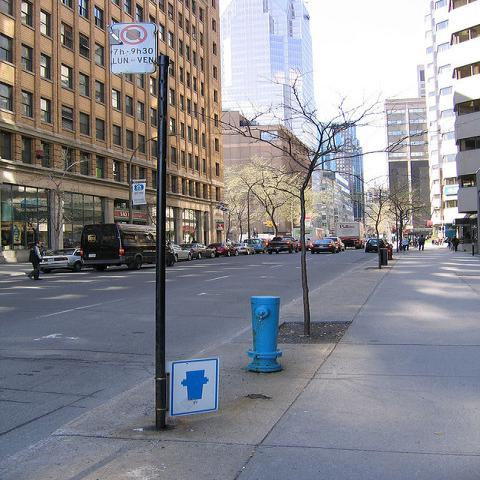bus: (292, 228, 330, 248)
car: (39, 248, 82, 273), (180, 243, 216, 259), (207, 243, 239, 258), (310, 240, 340, 253), (173, 244, 192, 262), (244, 239, 268, 253), (324, 237, 344, 252), (364, 239, 387, 252), (232, 243, 256, 255), (296, 237, 314, 250)
truck: (80, 222, 178, 273), (335, 221, 366, 249), (292, 228, 326, 248), (266, 236, 298, 254)
